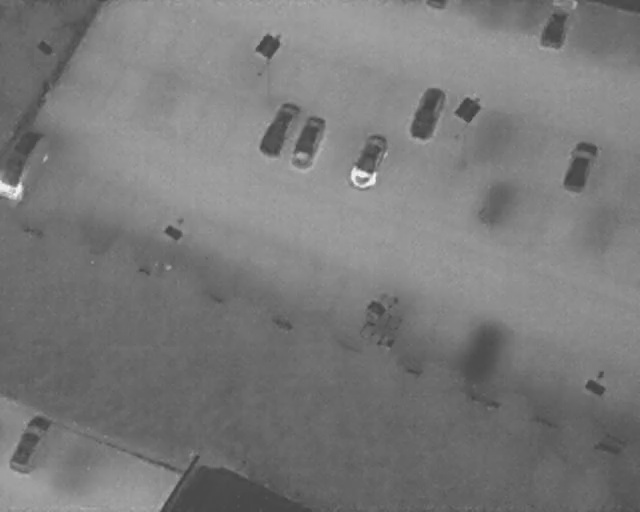Car: (255, 95, 305, 164), (1, 132, 46, 203), (346, 129, 391, 193), (286, 109, 330, 172), (405, 83, 450, 144), (559, 137, 601, 196), (538, 5, 574, 51), (423, 0, 446, 10)
